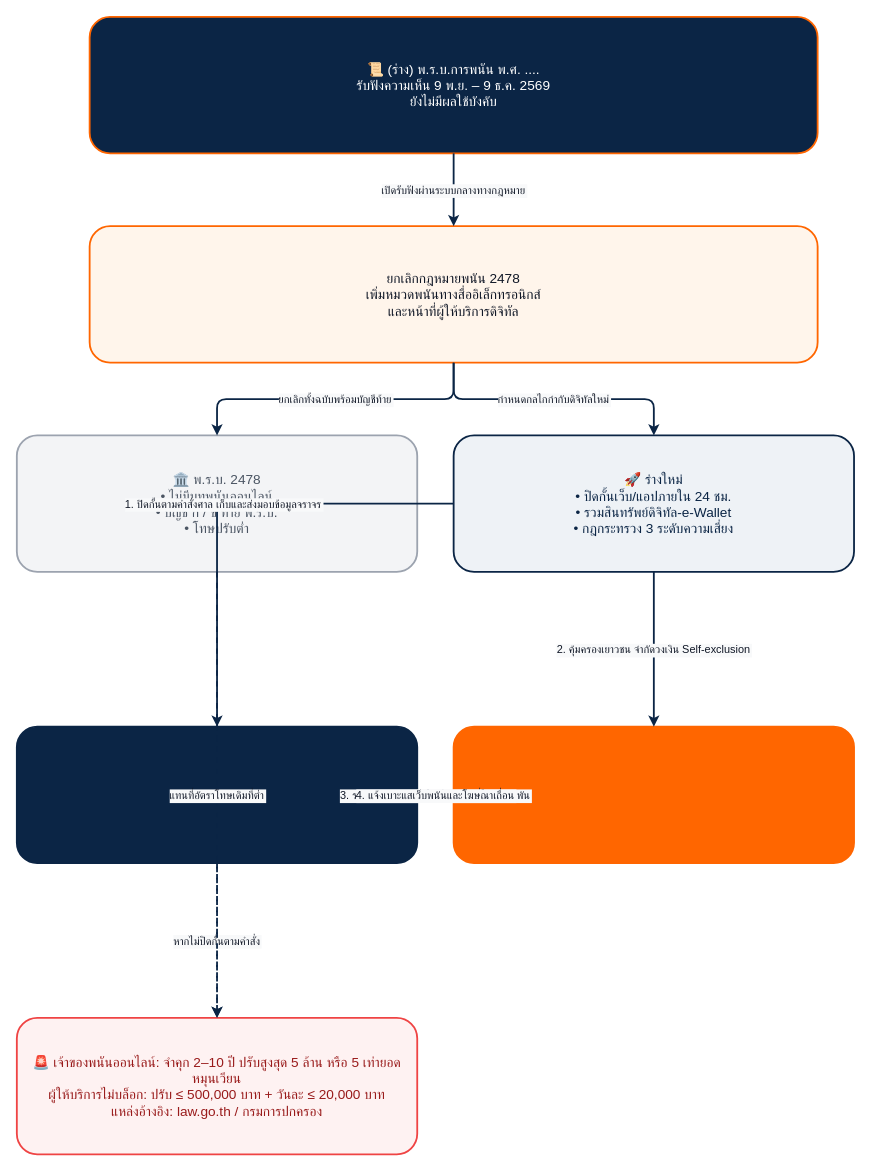
The diagram is 870 pixels wide and 1170 high, and some of its shapes have lost their labels. The centre of each missing label's shape, as x and y in pixels:
"🏢 ISP / แพลตฟอร์ม / ระบบชำระเงิน / ธุรกิจสินทรัพย์ดิจิทัล" goes at point (216, 794).
"👤 ประชาชน / เยาวชนต่ำกว่า 20 ปี" goes at point (653, 794).
